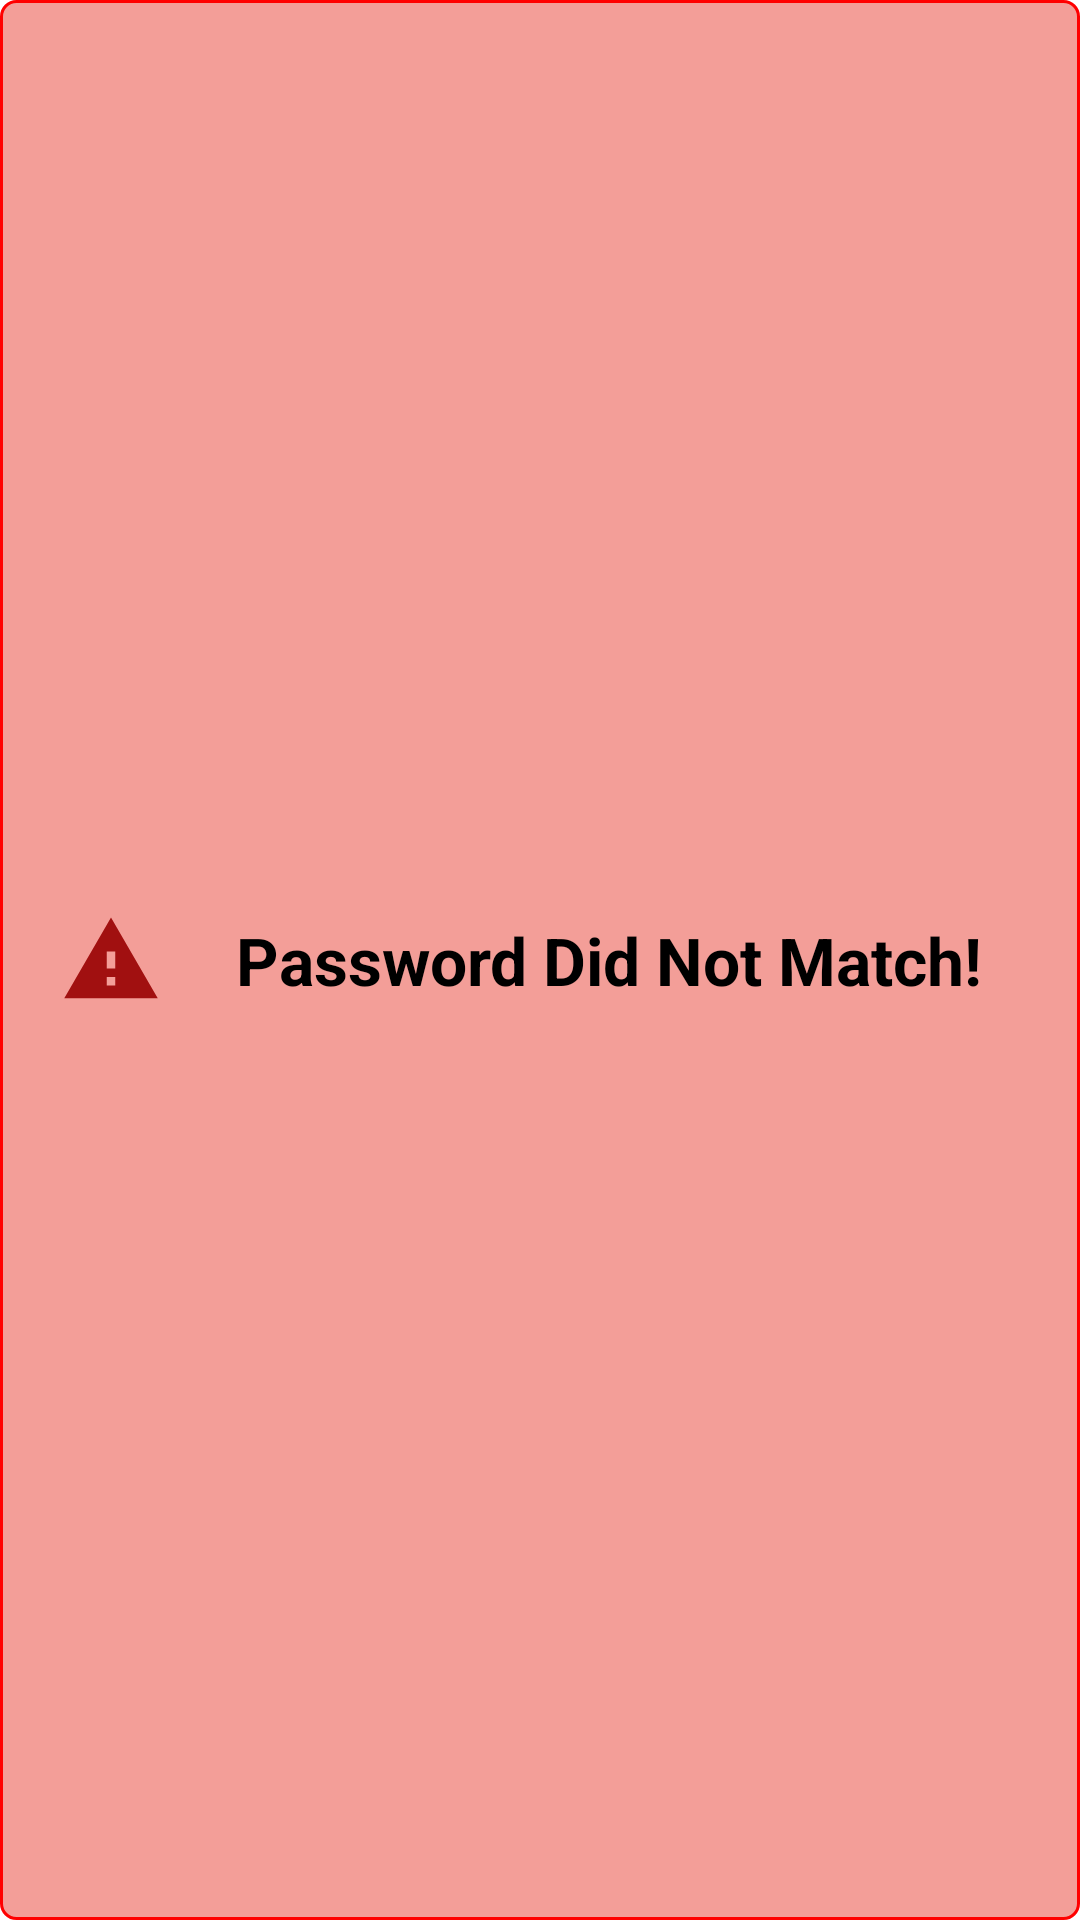

Icons on this 1080 x 1920 Android screen, each with the point to tap as [x,y]:
warning: [111,958]
